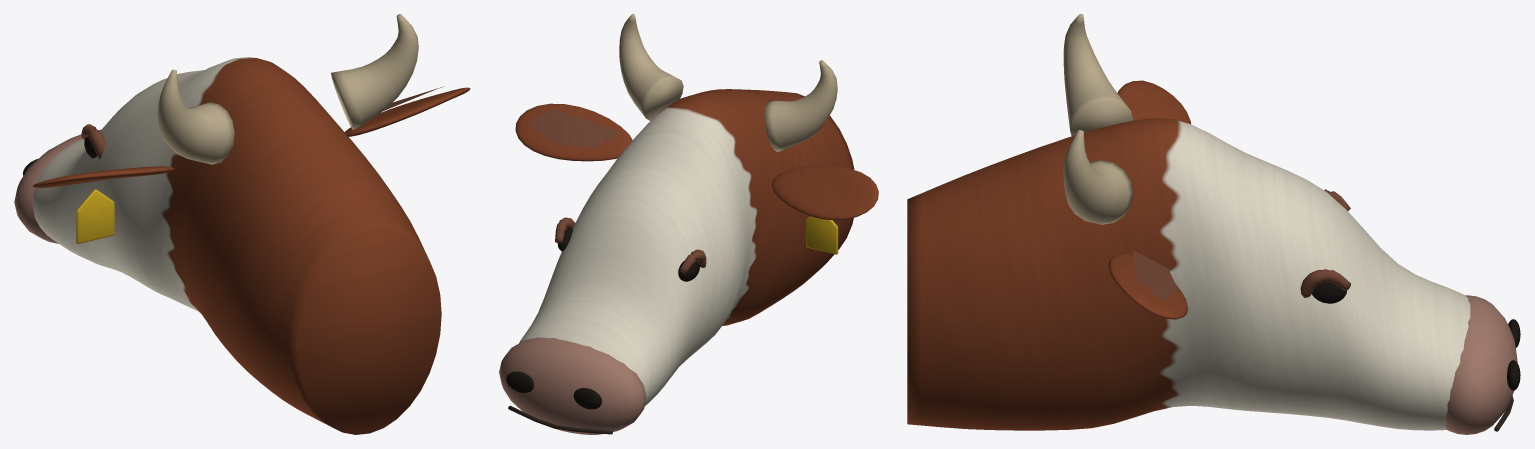
Rendered from SM_Cow_Alive_Head.glb.
3 renders of one model, left to right at view 1: azimuth 30°, elevation 25°; view 2: azimuth 150°, elevation 25°; view 3: azimuth 270°, elevation 25°, orthographic. The views are drawn at different scales.
Visible parts, largest first — view 1: SM_Cow_Alive_Head.001; view 2: SM_Cow_Alive_Head.001; view 3: SM_Cow_Alive_Head.001.
Boxes of the visible parts, bbox=[...] form: SM_Cow_Alive_Head.001: bbox=[14, 14, 470, 434]; SM_Cow_Alive_Head.001: bbox=[499, 14, 878, 434]; SM_Cow_Alive_Head.001: bbox=[907, 14, 1520, 434].
Bounding box in the file's own units: 1.02 × 0.7606 × 1.2.
8 materials, 8 textured.
